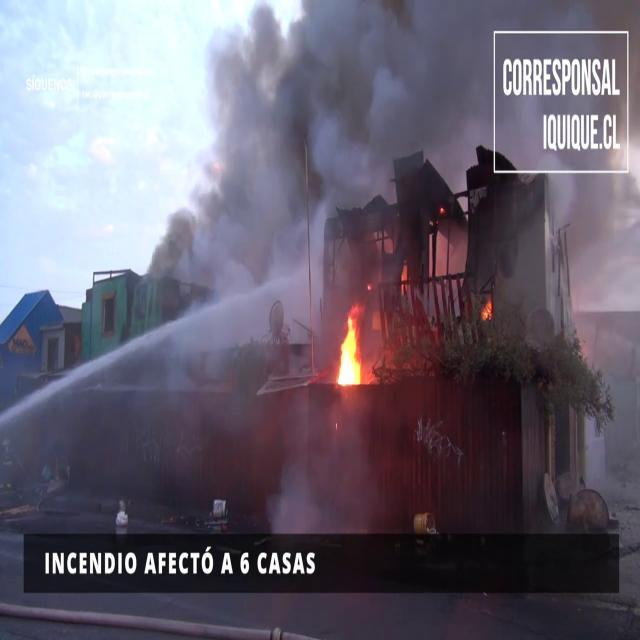Fire: (334, 310, 364, 391), (480, 290, 494, 326)
Smoke: (142, 1, 502, 307), (494, 169, 640, 343)
